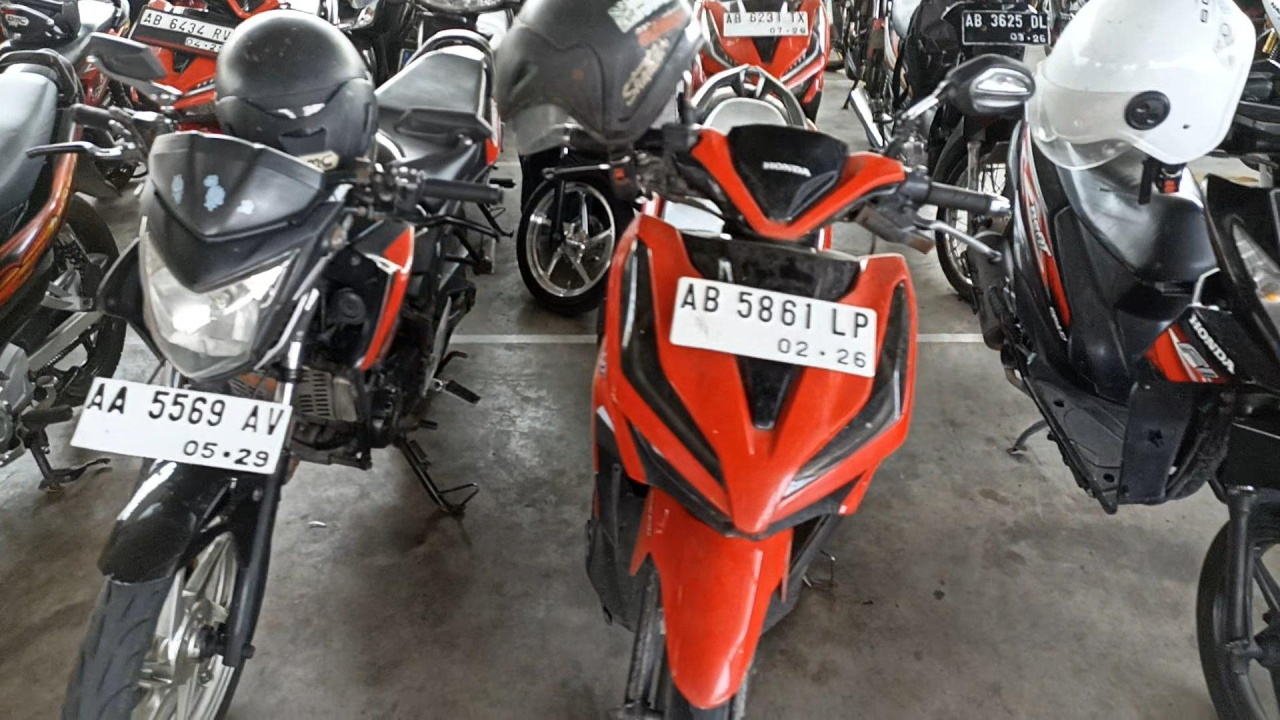plate: (70, 375, 292, 473), (669, 277, 877, 377), (133, 7, 235, 60), (963, 11, 1050, 45), (724, 11, 808, 36)
